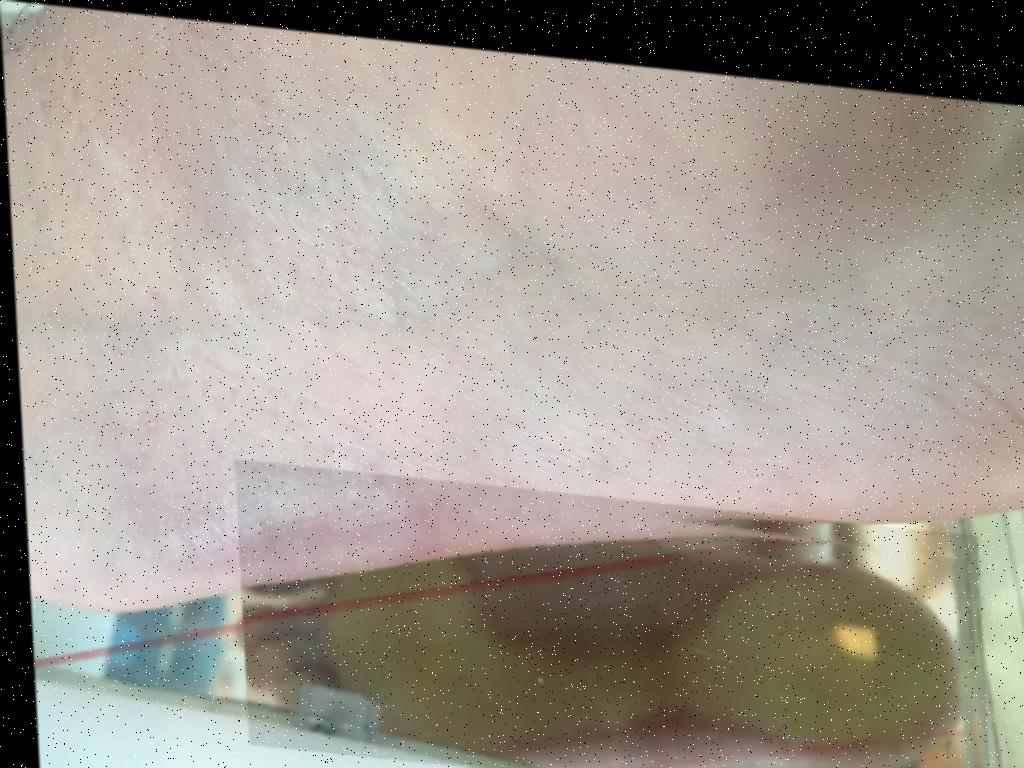Present: (230, 455, 985, 768)
